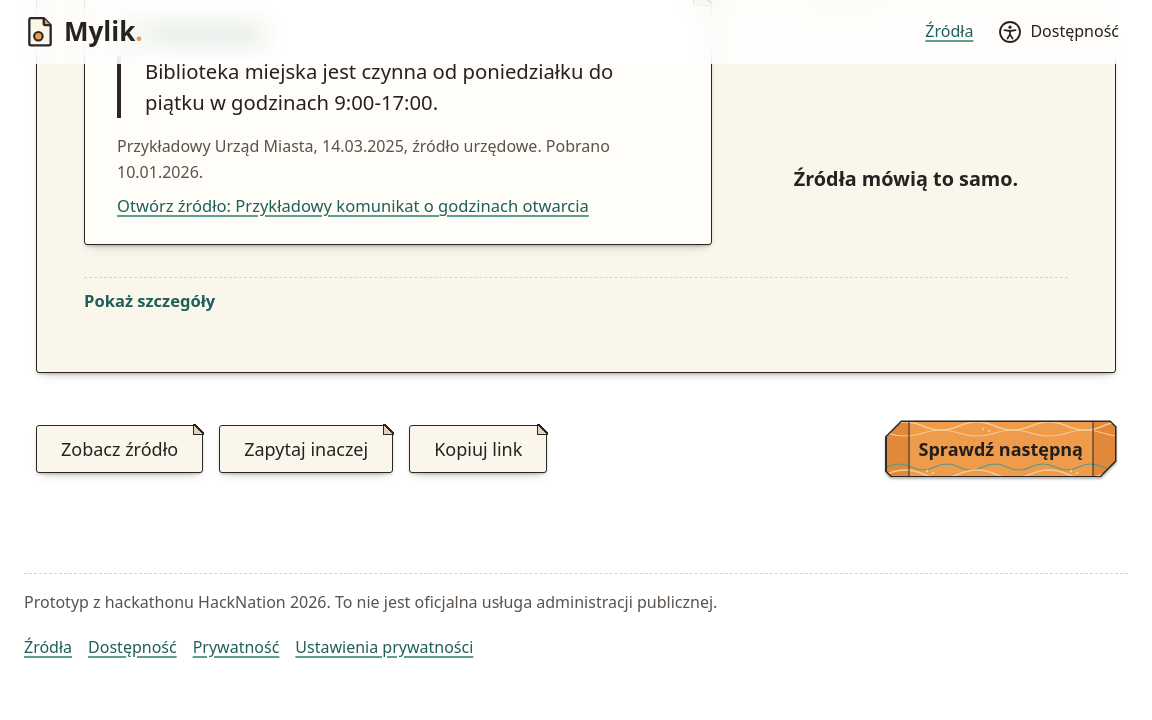
Scenario: strona wyniku /r/<id> › kopiuje link do schowka i pokazuje potwierdzenie
(page scrolled)
Click the button "Kopiuj link".
click(478, 449)  # box [409, 425, 547, 473]
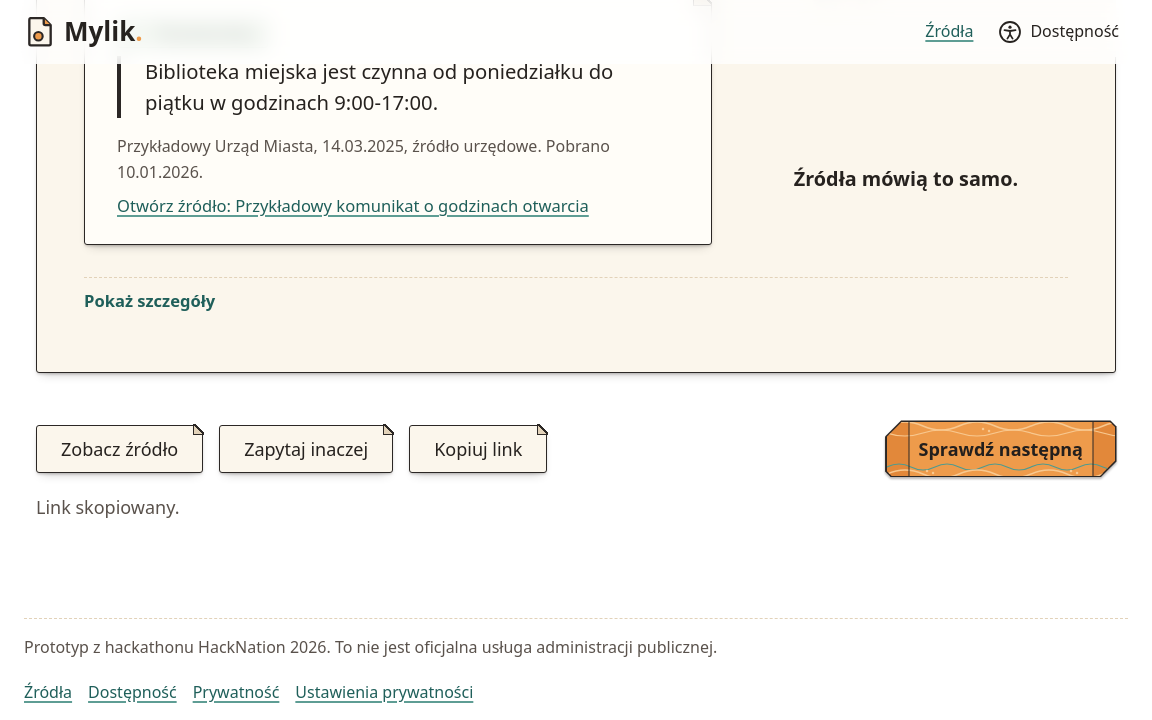
expect the text "Link skopiowany." is shown: met, box [36, 495, 180, 519]
